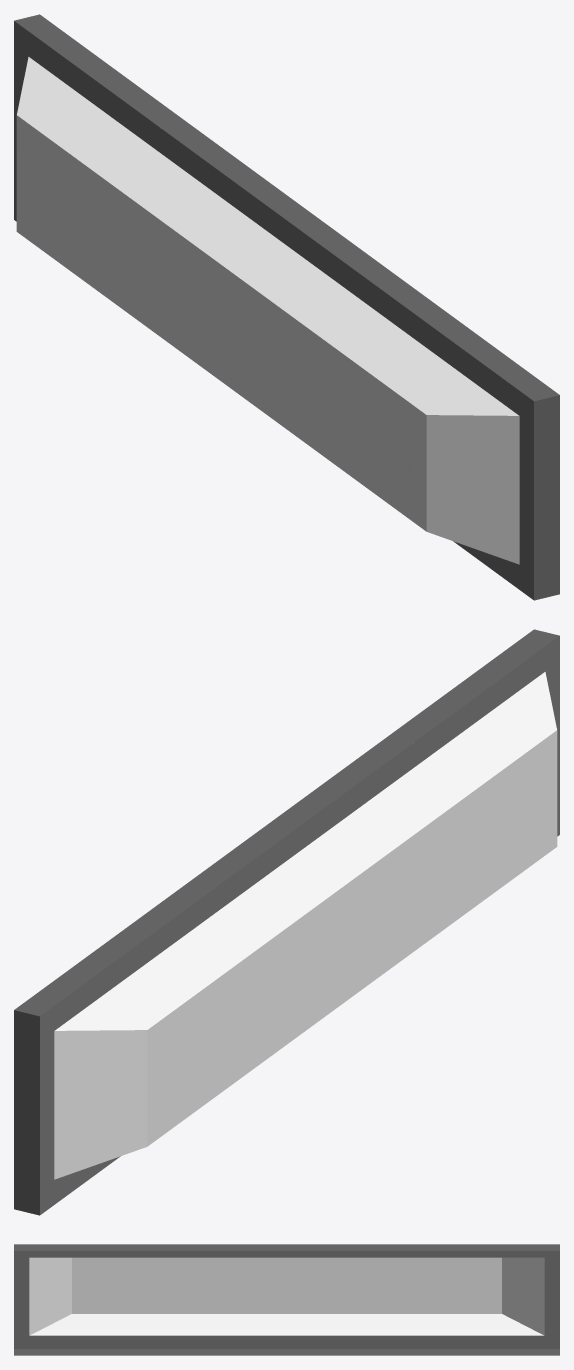
Rendered from Light_Alert_Long.fbx.
The picture shows the model from 3 angles, top to bottom: view 1: azimuth 30°, elevation 25°; view 2: azimuth 150°, elevation 25°; view 3: azimuth 270°, elevation 25°; orthographic projection. The views are drawn at different scales.
Parts seen in each view (by area): view 1: Long_Alert_Light, Long_Alert_Light_Frame; view 2: Long_Alert_Light, Long_Alert_Light_Frame; view 3: Long_Alert_Light, Long_Alert_Light_Frame.
Part boxes in pixels (x1,y1,x2,y2): Long_Alert_Light: (16, 57, 519, 564); Long_Alert_Light_Frame: (14, 14, 559, 600); Long_Alert_Light: (54, 672, 557, 1179); Long_Alert_Light_Frame: (14, 629, 559, 1215); Long_Alert_Light: (29, 1257, 544, 1335); Long_Alert_Light_Frame: (14, 1244, 559, 1355).
Bounding box in the file's own units: 11.15 × 27.11 × 128.
